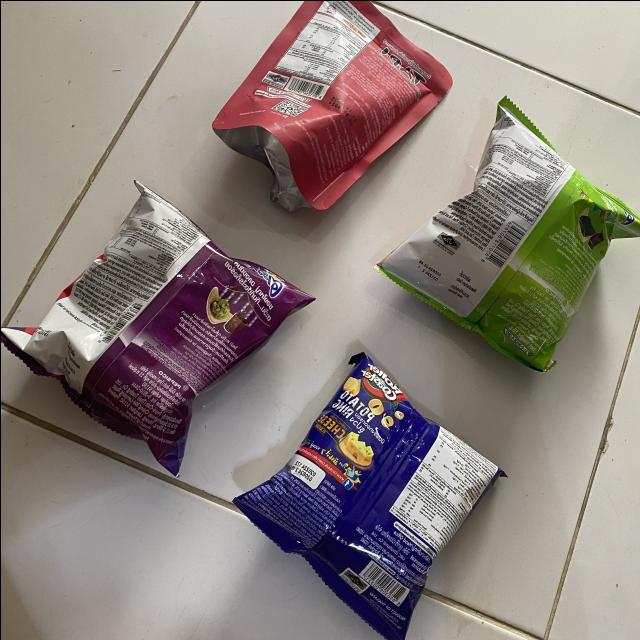plastik: (0, 181, 313, 475), (234, 352, 503, 640), (375, 96, 640, 371), (212, 0, 452, 210)
